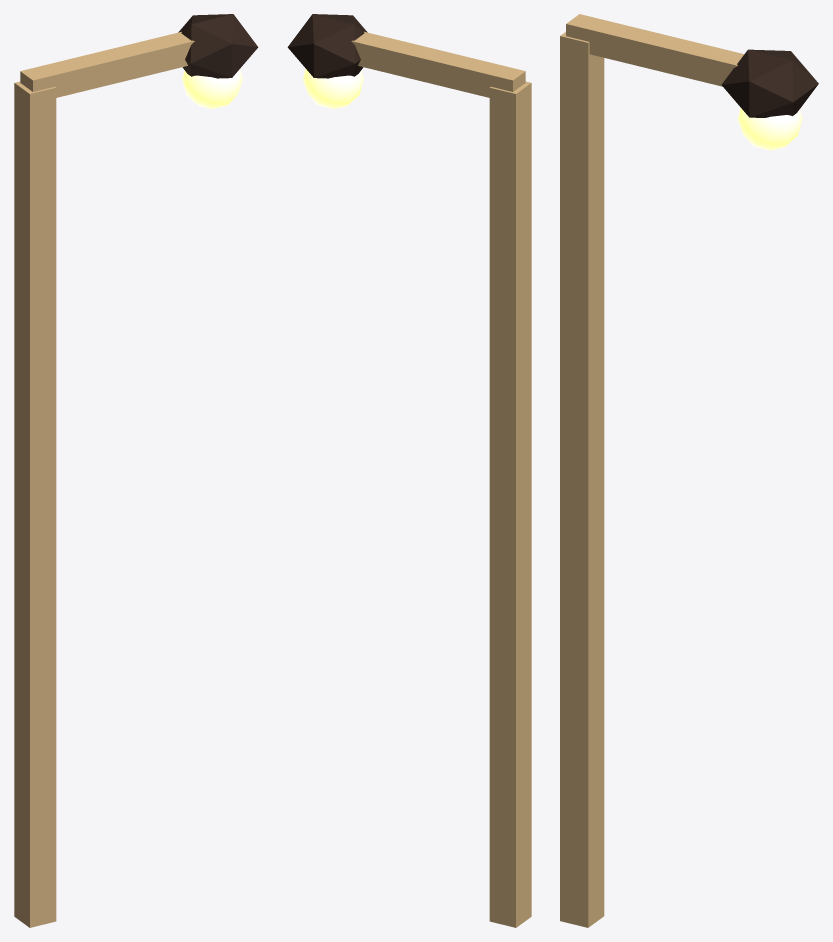
Rendered from street_lamp.glb.
3 renders of one model, left to right at view 1: azimuth 30°, elevation 25°; view 2: azimuth 150°, elevation 25°; view 3: azimuth 330°, elevation 25°, orthographic. The views are drawn at different scales.
Parts seen in each view (by area): view 1: street_lamp; view 2: street_lamp; view 3: street_lamp.
Boxes of the visible parts, left/top/right/bottom form: street_lamp: left=14, top=14, right=258, bottom=927; street_lamp: left=287, top=14, right=531, bottom=927; street_lamp: left=560, top=14, right=818, bottom=927.
Size of the model in its own units: 2.53 by 9.25 by 0.7656.
